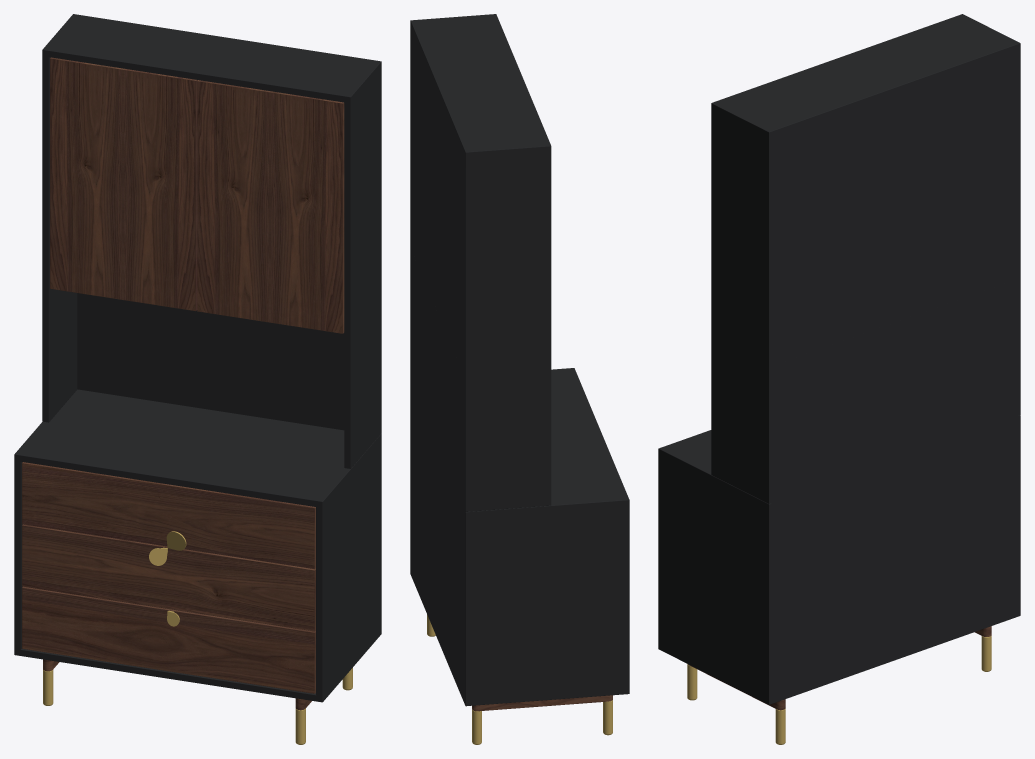
File: Petals-High-Bar-2.glb
The picture shows the model from 3 angles, left to right: view 1: azimuth 30°, elevation 25°; view 2: azimuth 150°, elevation 25°; view 3: azimuth 270°, elevation 25°; orthographic projection. The views are drawn at different scales.
Visible parts, largest first — view 1: cabinet - lower, cabinet - upper, door - left, door - right, back - mid, drawer - bot, drawer - top, drawer - mid; view 2: cabinet - upper, cabinet - lower, back - top, back - bot, back - mid, base; view 3: back - top, back - bot, cabinet - upper, back - mid, cabinet - lower.
Part boxes in pixels (x1=…): cabinet - lower: x1=14, y1=389, x2=381, y2=702; cabinet - upper: x1=42, y1=14, x2=381, y2=468; door - left: x1=50, y1=57, x2=197, y2=311; door - right: x1=197, y1=80, x2=344, y2=333; back - mid: x1=77, y1=293, x2=344, y2=430; drawer - bot: x1=22, y1=586, x2=315, y2=693; drawer - top: x1=22, y1=462, x2=315, y2=569; drawer - mid: x1=22, y1=524, x2=315, y2=631; cabinet - upper: x1=410, y1=14, x2=551, y2=511; cabinet - lower: x1=410, y1=368, x2=629, y2=706; back - top: x1=411, y1=25, x2=464, y2=377; back - bot: x1=411, y1=385, x2=464, y2=701; back - mid: x1=411, y1=249, x2=464, y2=513; base: x1=472, y1=695, x2=612, y2=711; back - top: x1=771, y1=47, x2=1018, y2=365; back - bot: x1=771, y1=419, x2=1018, y2=701; cabinet - upper: x1=711, y1=14, x2=1020, y2=503; back - mid: x1=771, y1=279, x2=1018, y2=506; cabinet - lower: x1=658, y1=415, x2=1020, y2=704.
Size of the model in its own units: 1.06 by 2.13 by 1.12.
3 materials, 1 textured.
